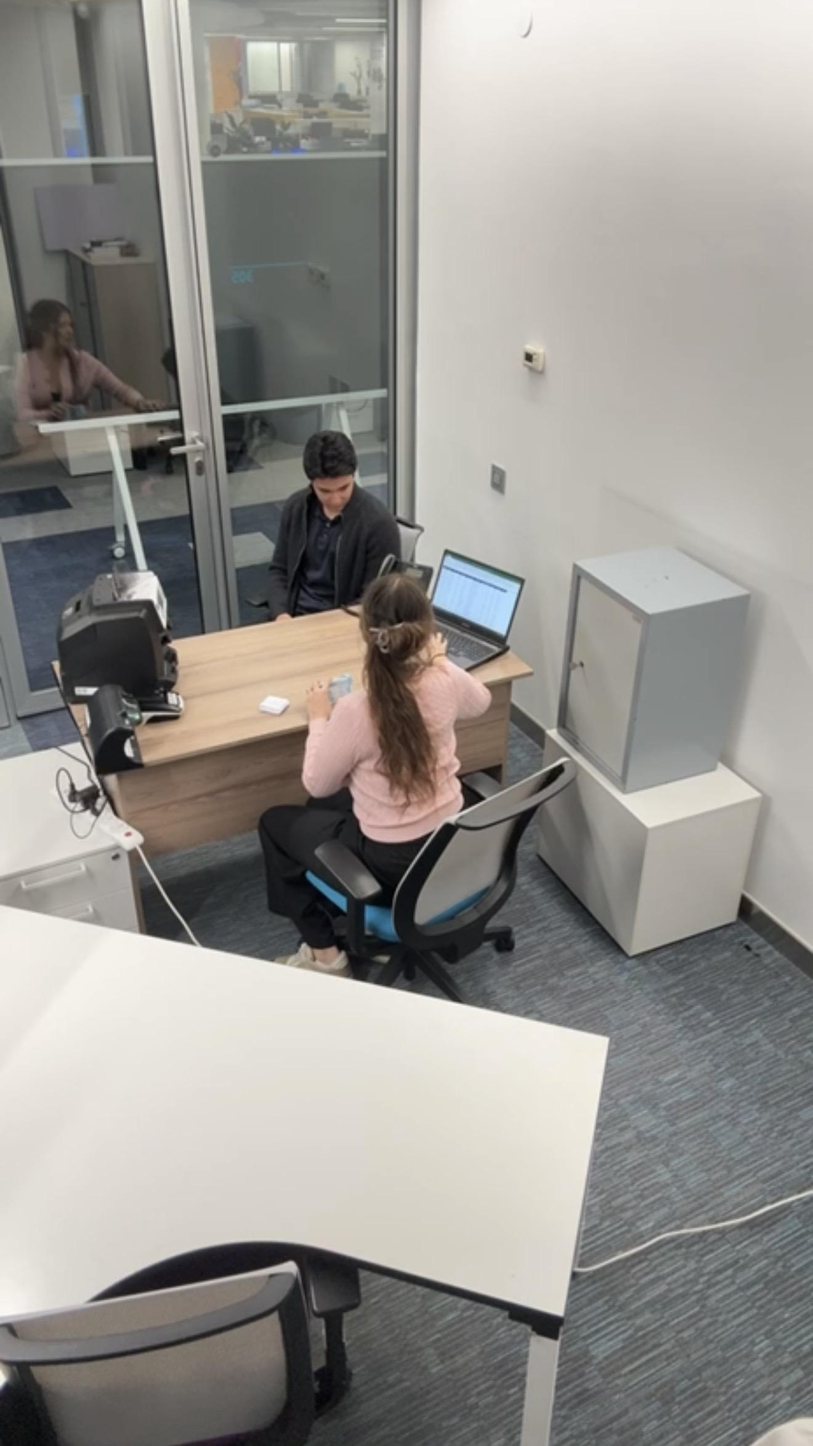cash_stack: (306, 667, 367, 702)
counter: (53, 571, 185, 692)
key_in: (552, 645, 599, 686)
screen_on: (431, 550, 515, 641)
uv_lamp: (68, 682, 154, 768)
